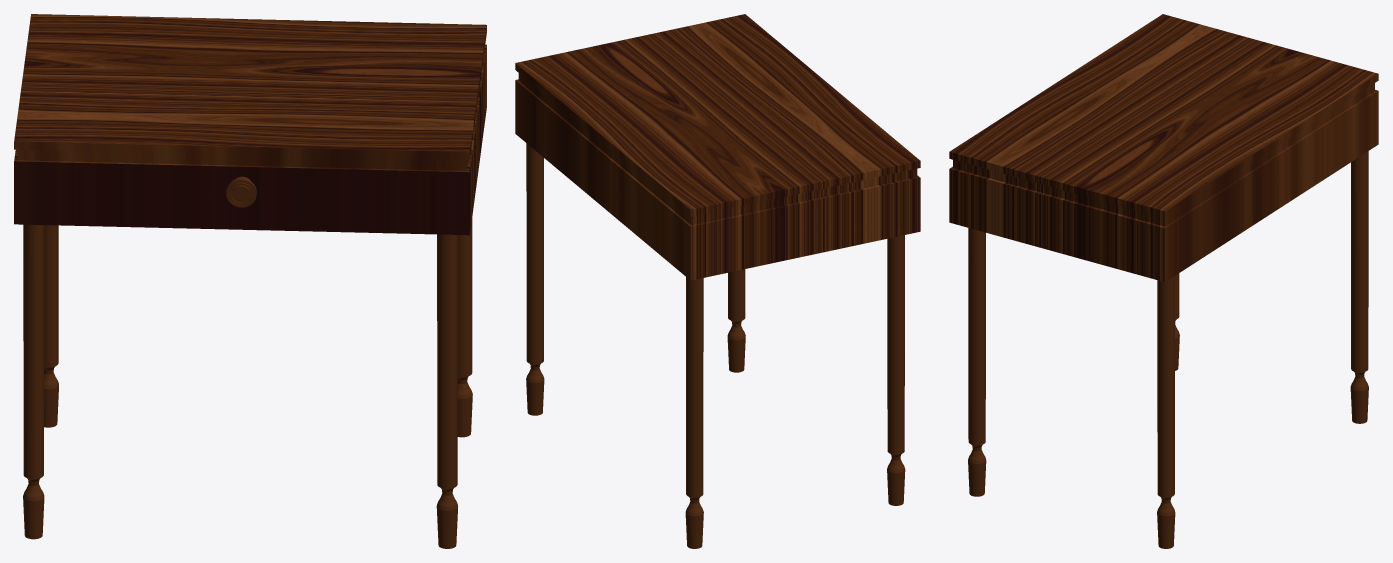
Rendered from stol2.fbx.
3 views of the same model, side by side, from view 1: azimuth 30°, elevation 25°; view 2: azimuth 150°, elevation 25°; view 3: azimuth 270°, elevation 25° (orthographic). The views are drawn at different scales.
Visible parts, largest first — view 1: стол.003; view 2: стол.003; view 3: стол.003.
Part boxes in pixels (x1,y1,x2,y2): стол.003: (14, 14, 486, 548); стол.003: (515, 14, 920, 548); стол.003: (949, 14, 1378, 548).
Bounding box in the file's own units: 81.75 × 66.47 × 75.09.
